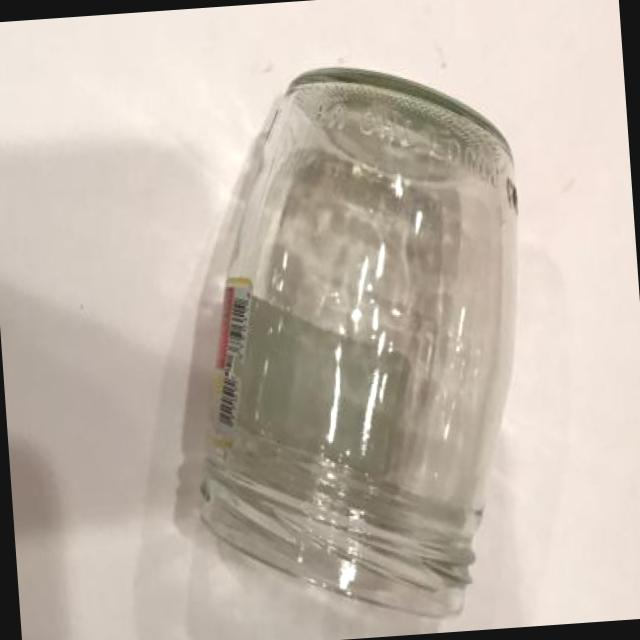chai_thuy_tinh: (198, 68, 517, 617)
